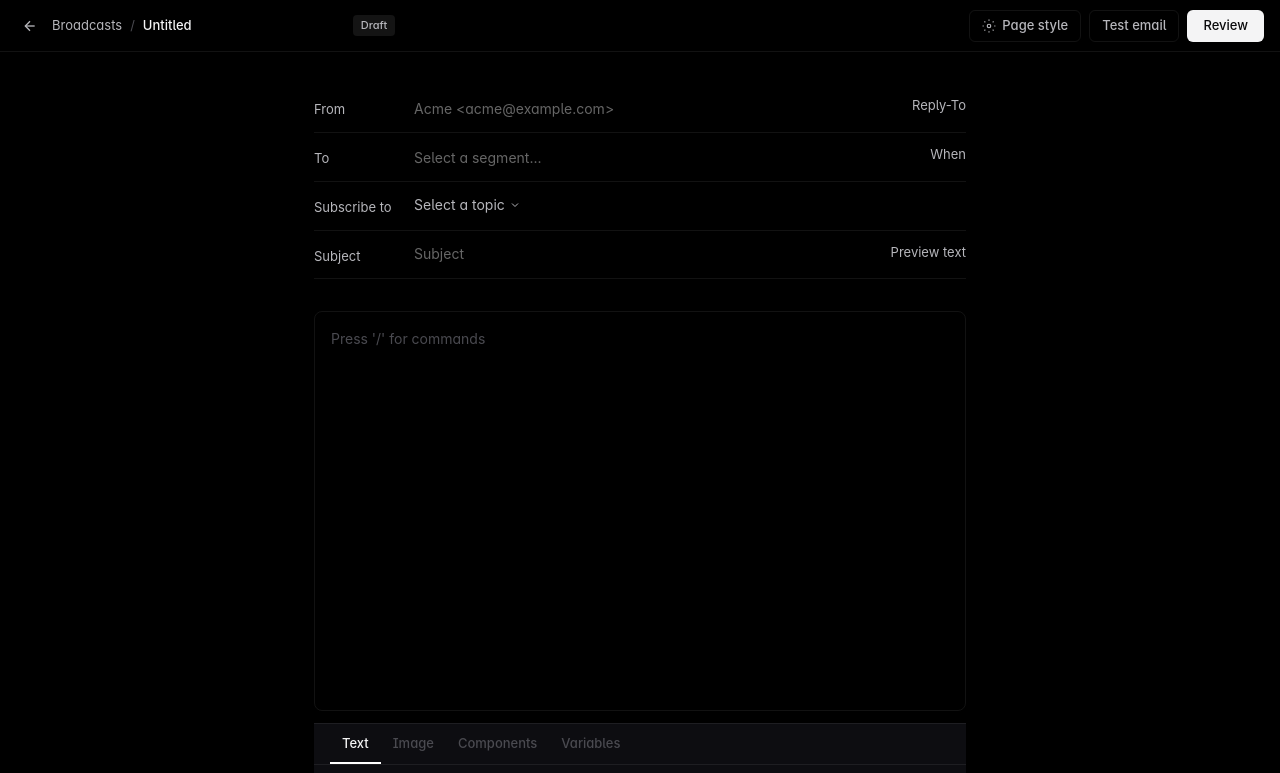
Test case: BroadcastEditor — Block Editor › inserts a heading block when selecting Heading from slash menu
The width and height of the screenshot is (1280, 773).
Open slash menu
Press / in the element with test id "block-editor", box [314,311,966,711]
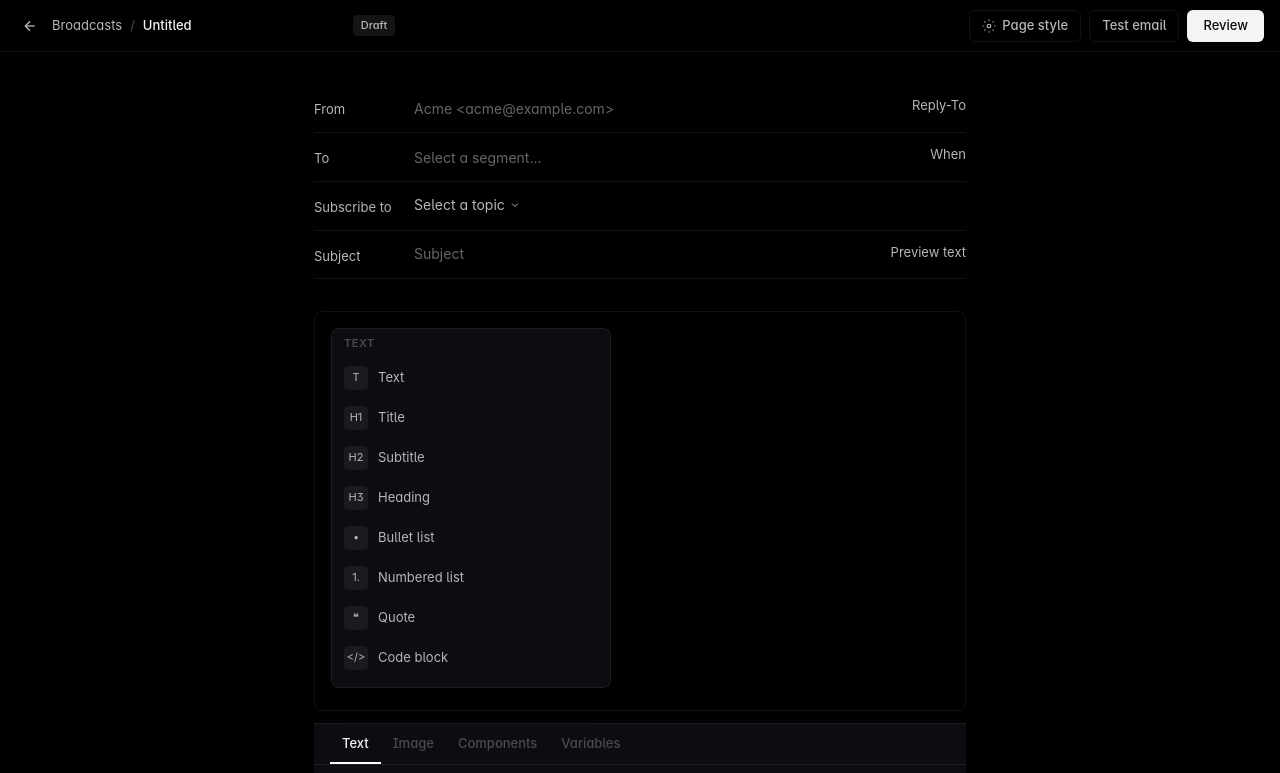
Click Heading
Click the button "H3 Heading" at (404, 497), box [332,478,610,518]
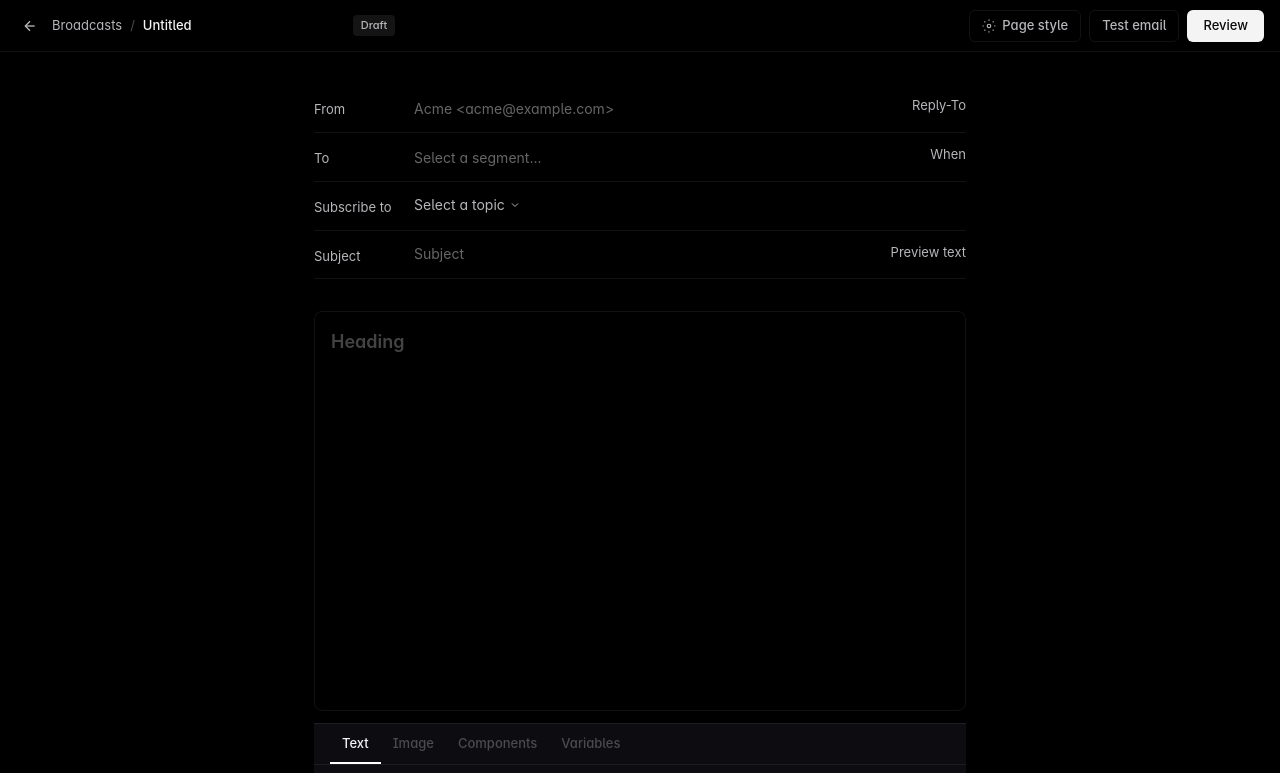
Expected: the button "Bullet list" is gone
Expected: the element with test id "block-heading" is shown, [331,328,949,355]
